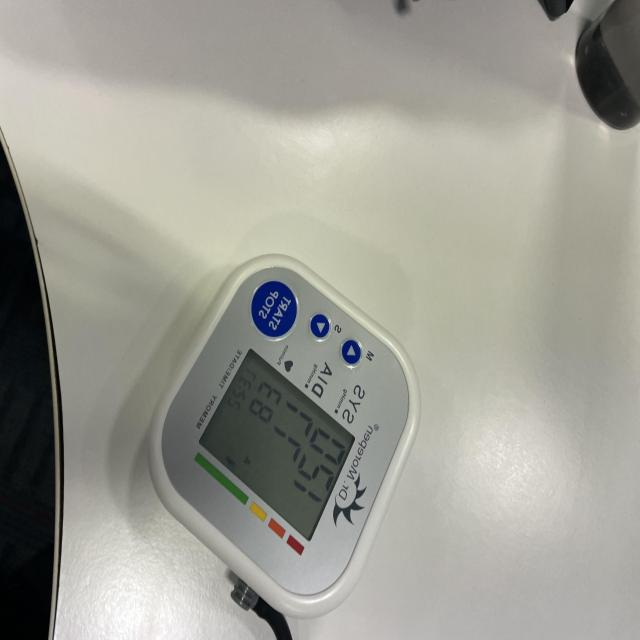bp: (147, 255, 419, 620)
